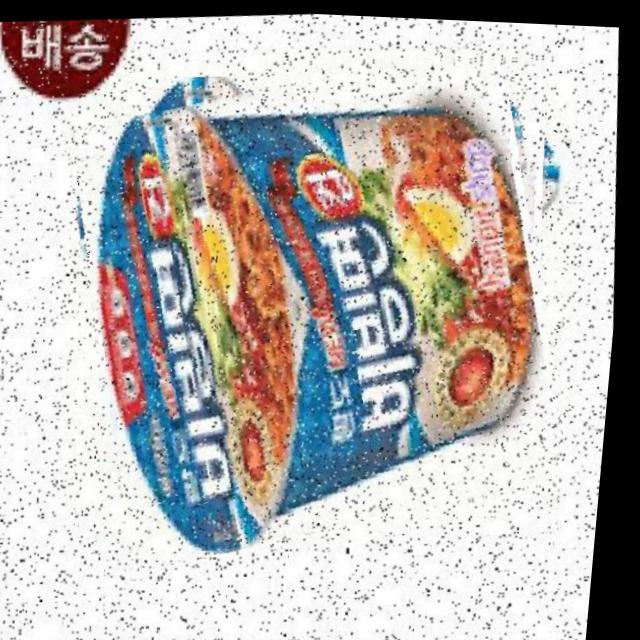Miscellaneous: (50, 31, 608, 570)
